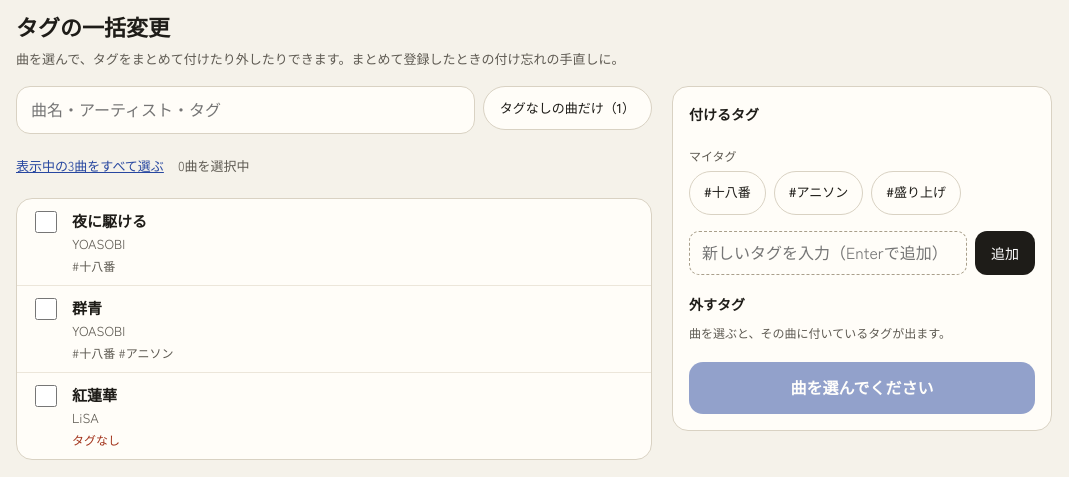
Test case: BulkEditScreen: タグの変更 › 選んだ曲に付いているタグを、付いている曲数とともに外す候補にする
This screenshot has width=1069, height=477.
expect the text "曲を選ぶと、その曲に付いているタグが出ます。" is shown: met, box [689,324,951,341]
Click the checkbox labelled "紅蓮華 LiSA タグなし".
click(46, 396)  # box [35,385,57,407]
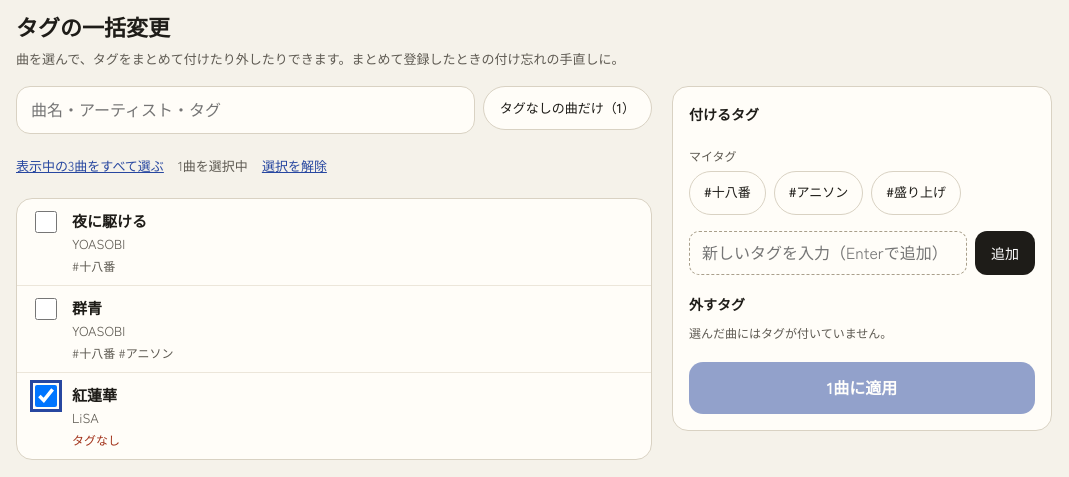
expect the text "選んだ曲にはタグが付いていません。" is shown: met, box [689,324,892,341]
Click the checkbox labelled "夜に駆ける YOASOBI #十八番".
click(46, 222)  # box [35,211,57,233]
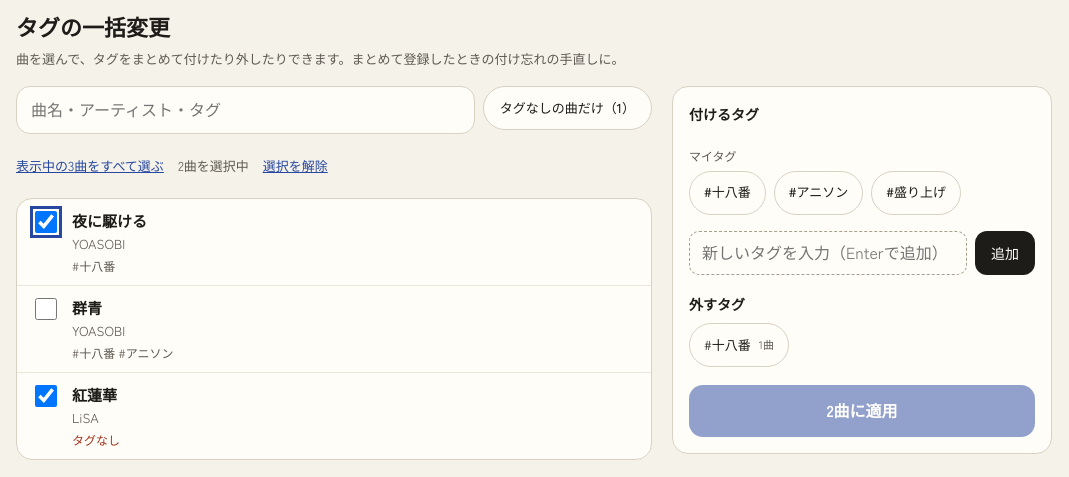
Click the checkbox labelled "群青 YOASOBI #十八番 #アニソン".
click(46, 309)  # box [35,298,57,320]
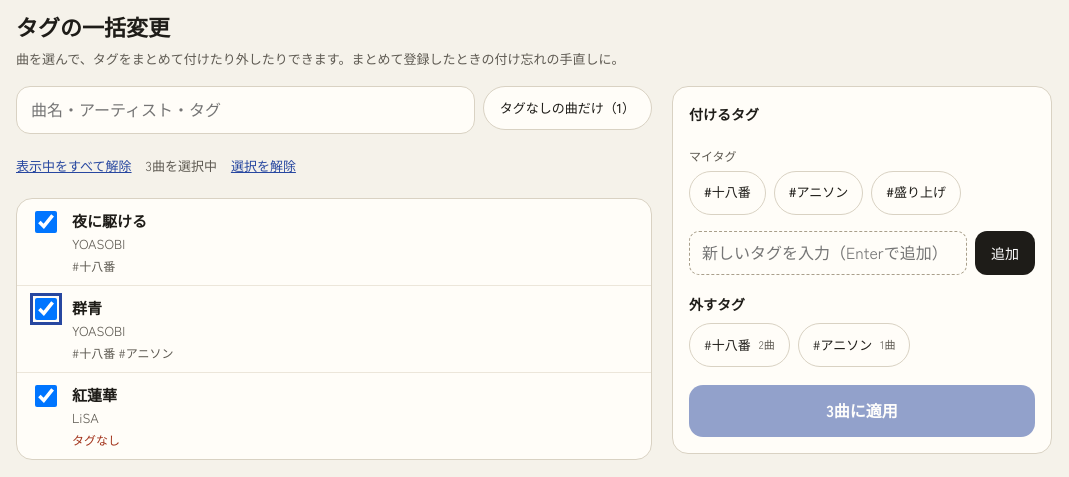
expect the buttons read "#十八番2曲", "#アニソン1曲", in this order: met, box [689,323,790,367]; [798,323,910,367]
